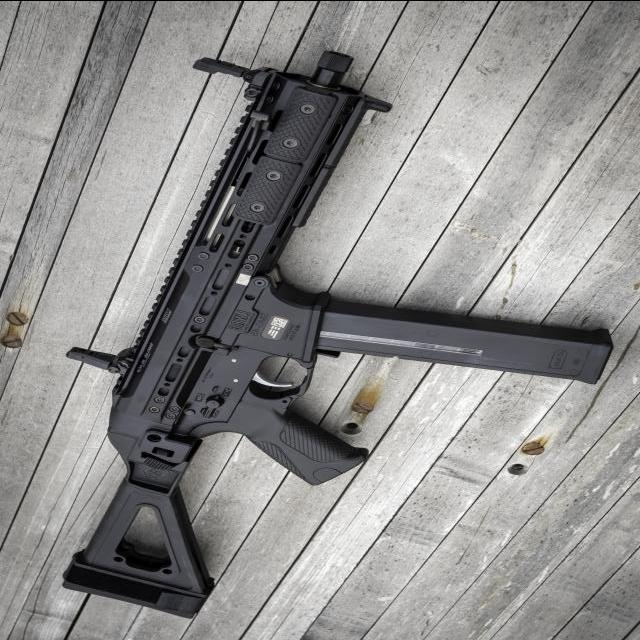smg: (61, 38, 640, 619)
